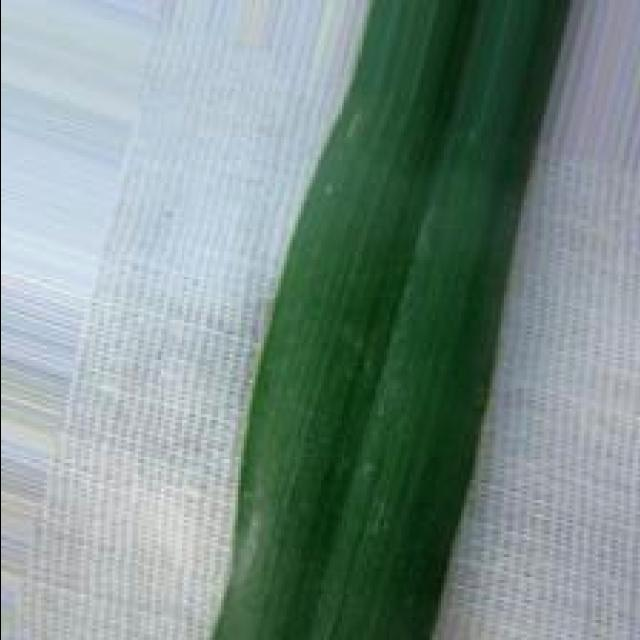Healthy: (203, 0, 573, 640)
